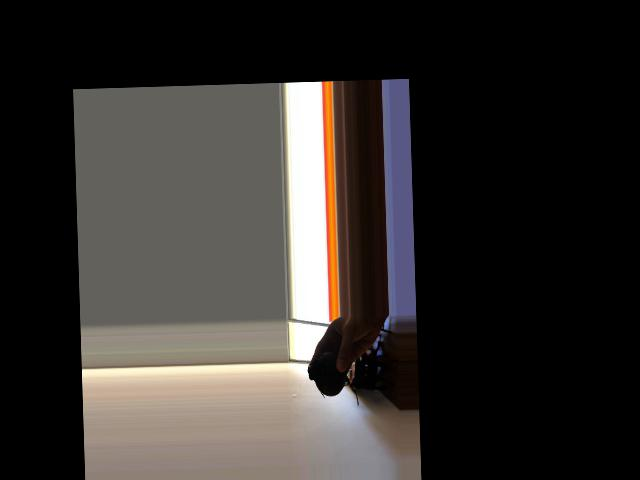beet: (307, 351, 358, 409)
